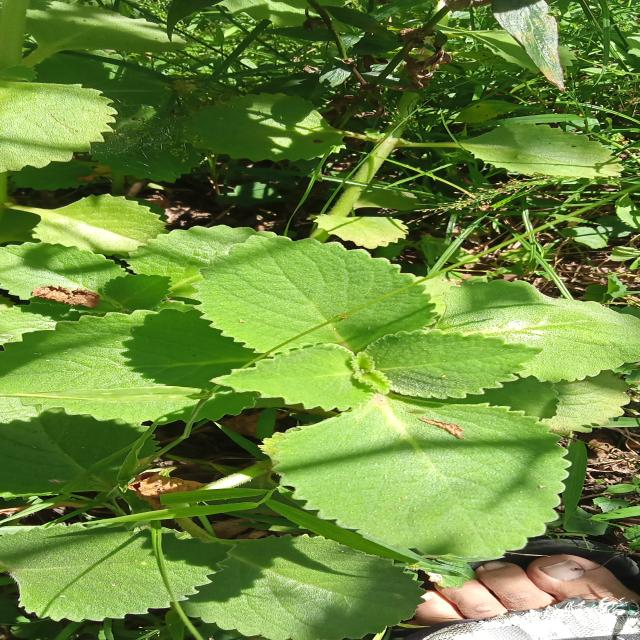Oregano: (4, 223, 640, 565), (0, 506, 434, 640), (415, 104, 636, 190), (172, 89, 346, 174)
